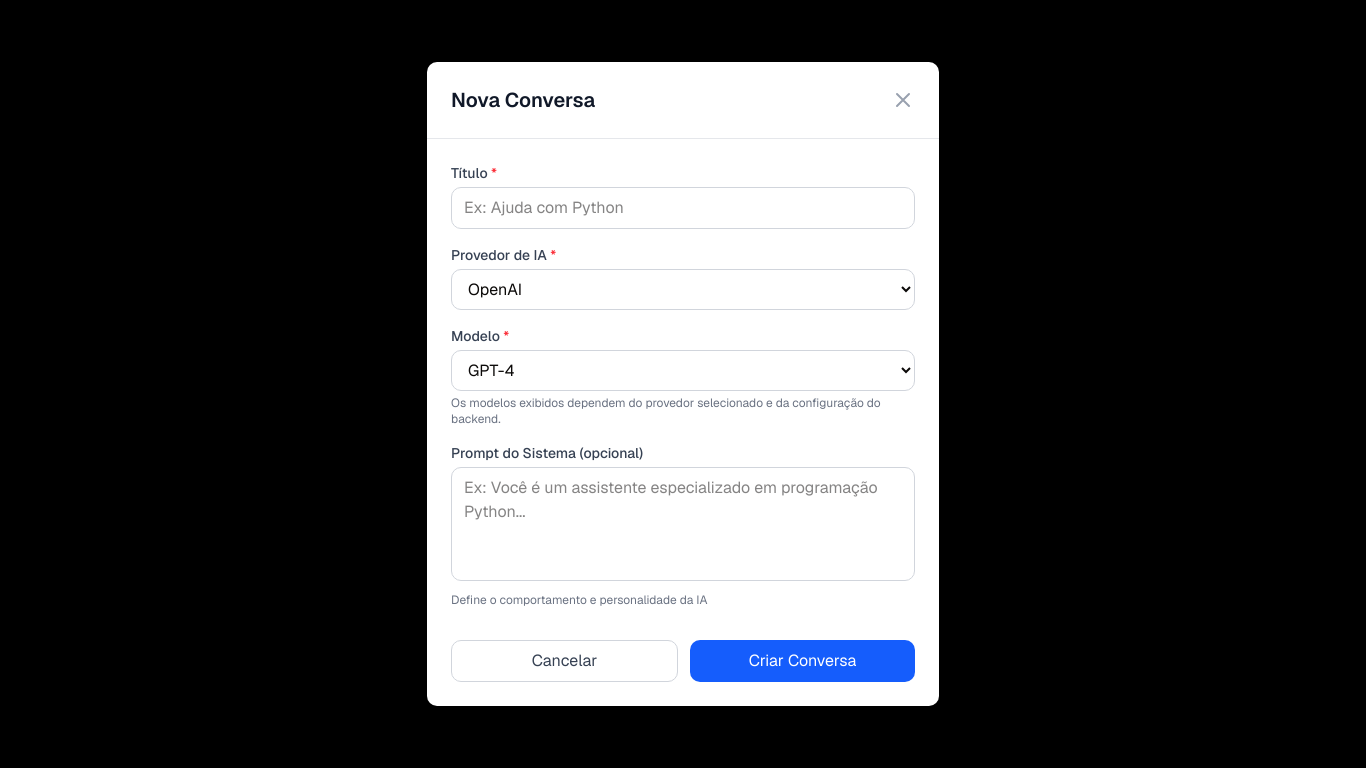
Scenario: NewConversationModal - Authentication Guard › Form Validation › should require title field
expect the heading "Nova Conversa" is shown: met, box left=451, top=86, right=595, bottom=114
Click the button "Criar Conversa". click: [802, 661]
box: left=690, top=640, right=915, bottom=682
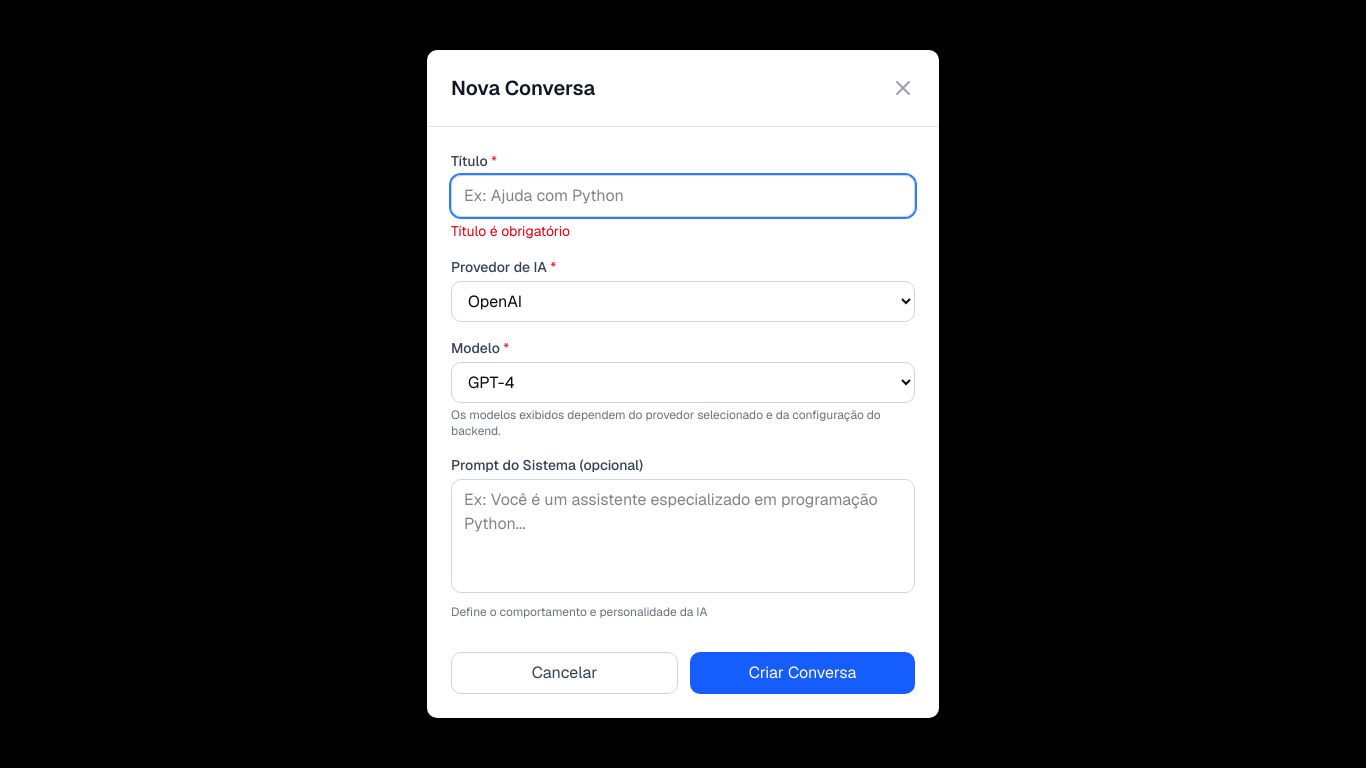
expect the text "Título é obrigatório" is shown: met, box left=451, top=222, right=570, bottom=240
